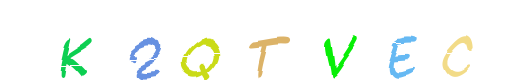2: (161, 0, 241, 80)
C: (303, 0, 383, 80)
E: (297, 0, 377, 80)
K: (58, 0, 138, 80)
Q: (199, 0, 279, 80)
T: (212, 0, 292, 80)
V: (225, 0, 305, 80)
